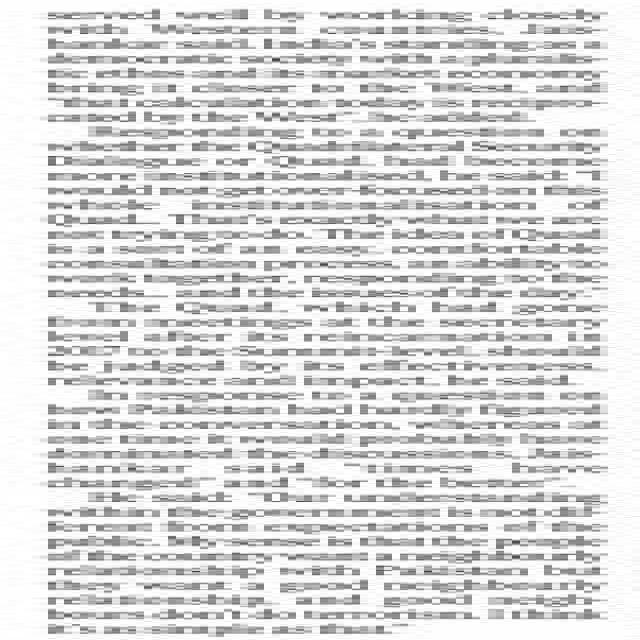paper: (8, 1, 640, 640)
